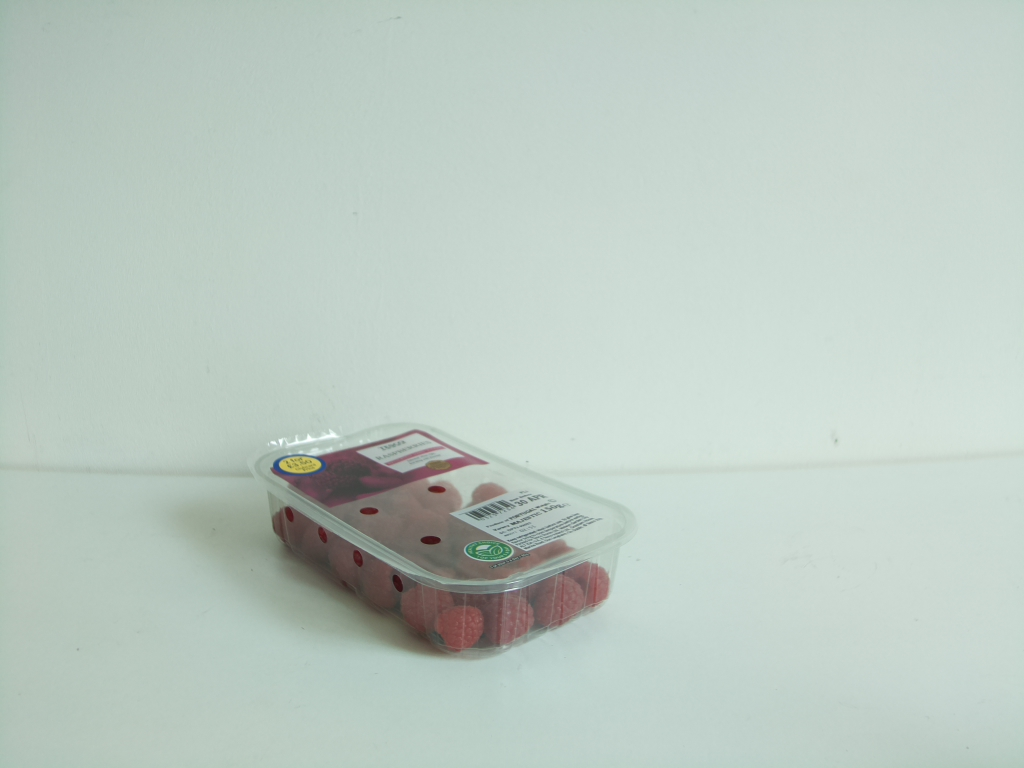soft-fruit: (256, 433, 633, 656)
